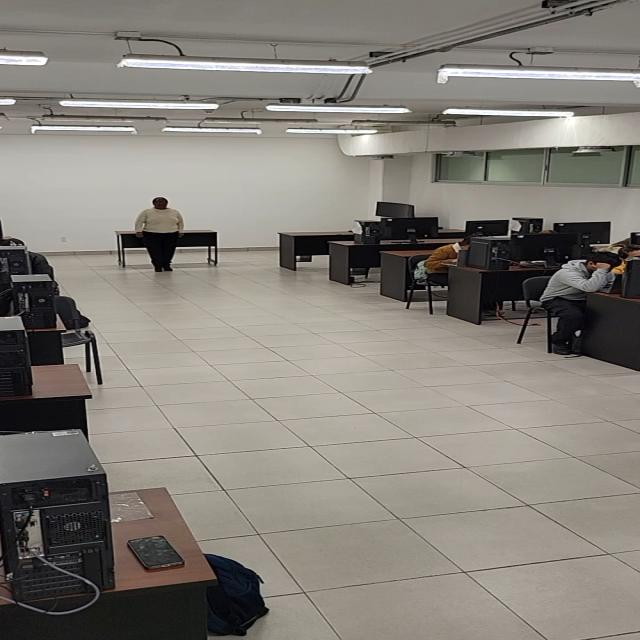Persona: (134, 193, 188, 281)
